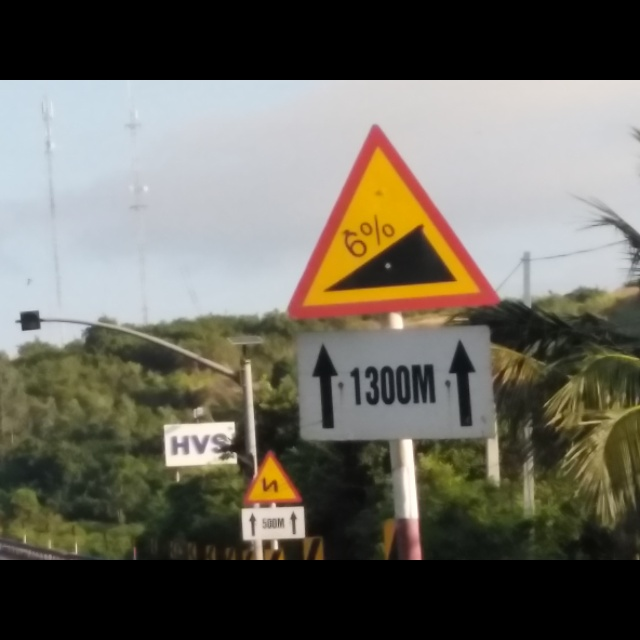Dốc lên nguy hiểm: (282, 121, 497, 322)
Ngoặt nguy hiểm liên tiếp bên phải: (238, 442, 304, 507)
